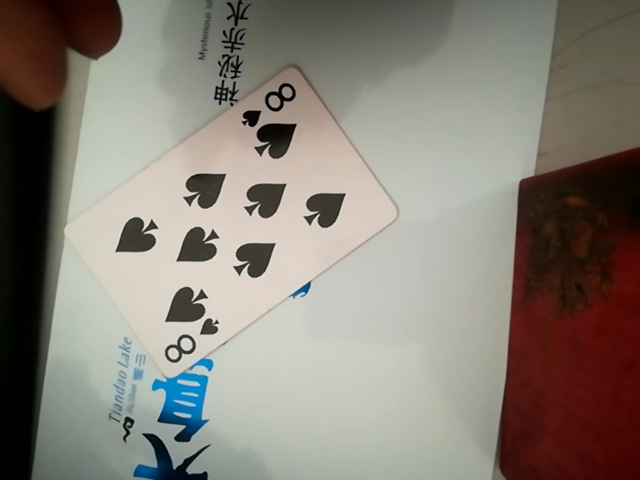ht 8: (72, 73, 407, 372)
